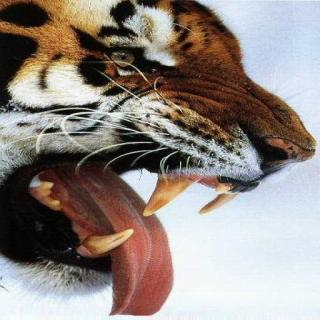Tiger: (0, 4, 318, 312)
